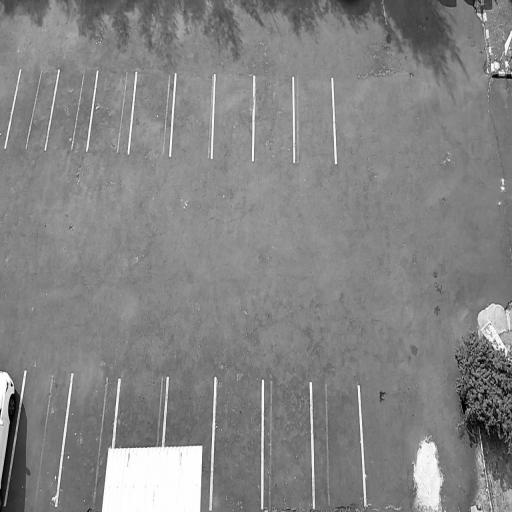Car: (0, 364, 22, 512)
Space Available: (5, 368, 73, 504), (56, 375, 114, 506), (210, 377, 263, 510), (310, 383, 366, 508), (262, 380, 314, 508), (4, 65, 58, 148), (45, 69, 97, 149), (87, 67, 137, 150), (128, 70, 175, 156), (170, 73, 215, 160), (114, 376, 167, 448), (212, 71, 254, 161), (163, 378, 216, 447), (294, 76, 335, 164), (254, 73, 294, 161), (0, 66, 21, 149)
